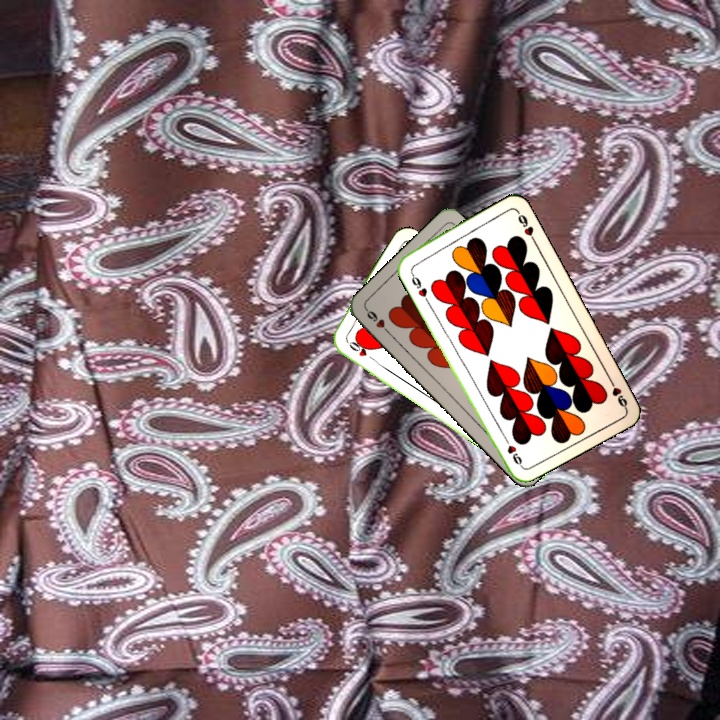H9: (362, 305, 394, 338), (604, 373, 630, 411), (406, 267, 431, 304)
HO: (342, 336, 378, 364)
